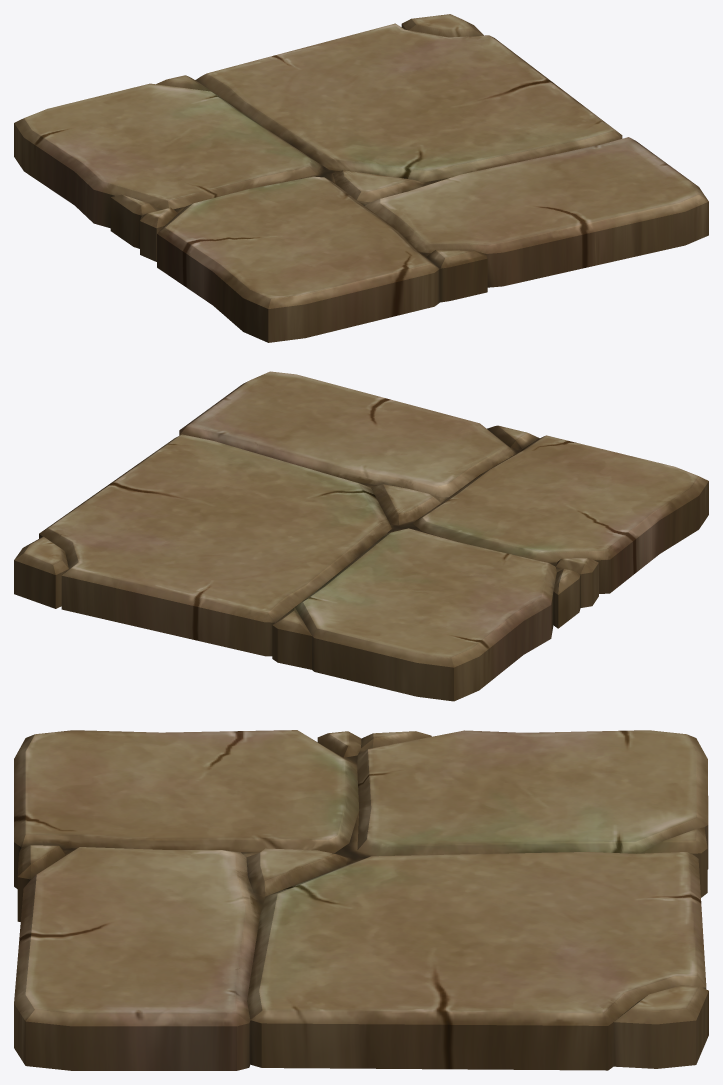
The model's file is CrumblingPlatform_Solid.FBX.
3 renders of one model, top to bottom at view 1: azimuth 30°, elevation 25°; view 2: azimuth 150°, elevation 25°; view 3: azimuth 270°, elevation 25°, orthographic. The views are drawn at different scales.
Visible parts, largest first — view 1: SolidPlatform_LOD0; view 2: SolidPlatform_LOD0; view 3: SolidPlatform_LOD0.
Boxes of the visible parts, x1,y1,x2,y2 form: SolidPlatform_LOD0: (14,14,708,342); SolidPlatform_LOD0: (14,371,708,701); SolidPlatform_LOD0: (14,730,708,1070).
Size of what is drawn, in the model's own units: 6.01 by 0.5 by 6.01.
